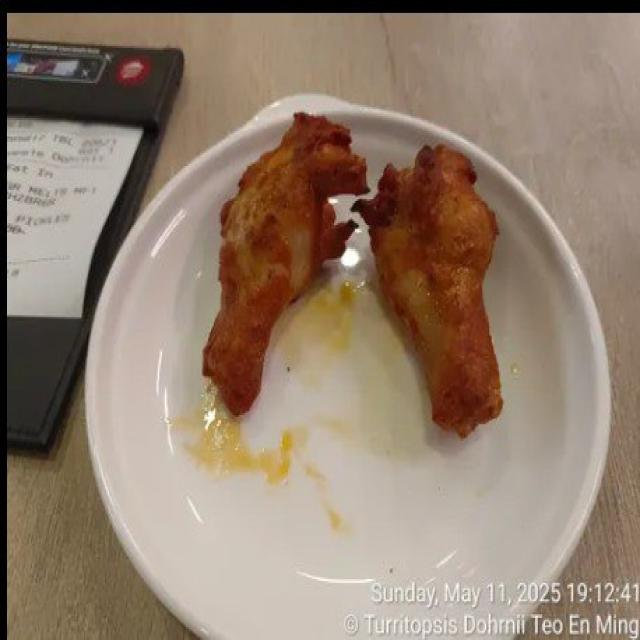Chicken: (203, 113, 366, 413), (352, 144, 502, 435)
